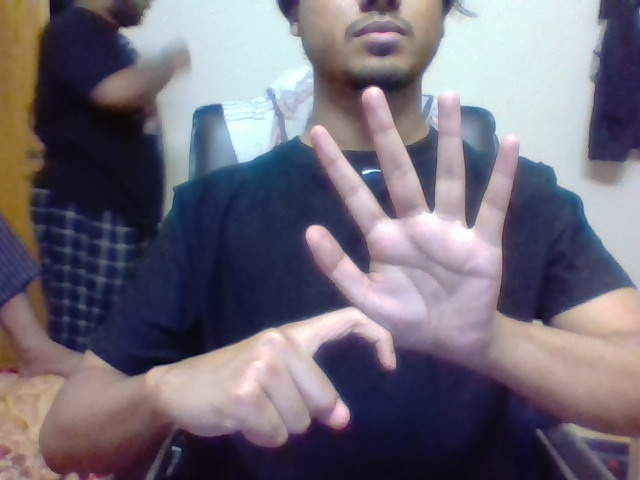R: (283, 305, 402, 433)
